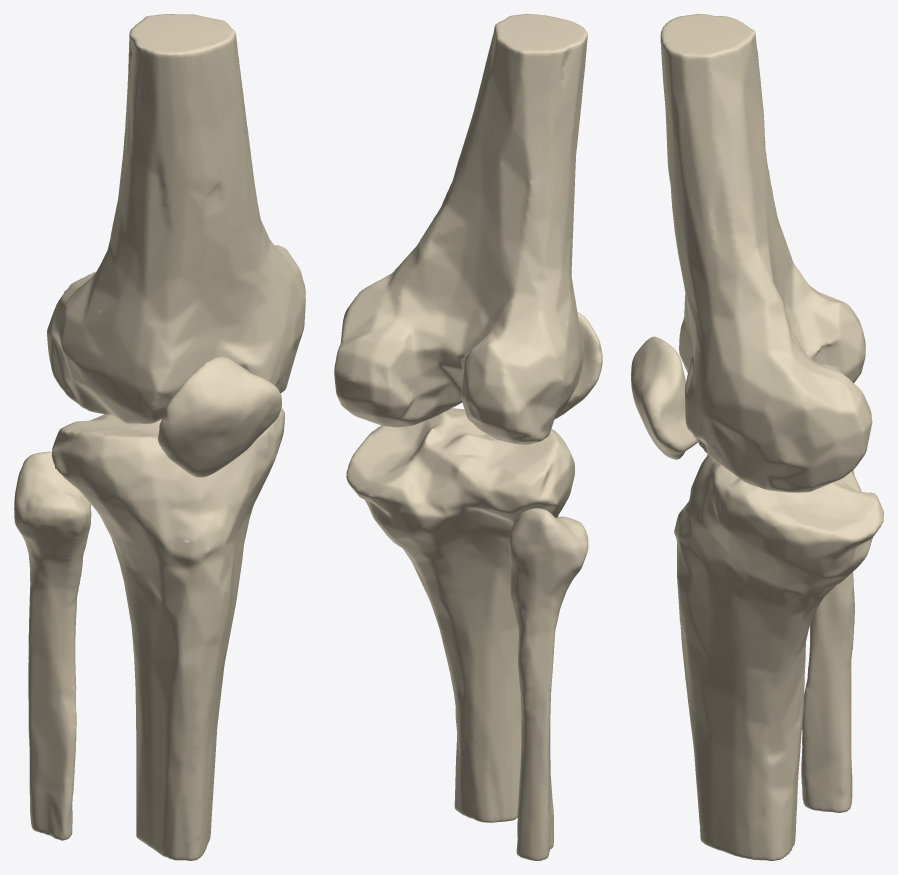
The model's file is knee.7219f0c8.glb.
The picture shows the model from 3 angles, left to right: view 1: azimuth 30°, elevation 25°; view 2: azimuth 150°, elevation 25°; view 3: azimuth 270°, elevation 25°; orthographic projection. The views are drawn at different scales.
Parts seen in each view (by area): view 1: Right femur, Right tibia, Right fibula, Right patella; view 2: Right femur, Right tibia, Right fibula, Right patella; view 3: Right femur, Right tibia, Right fibula, Right patella.
Boxes of the visible parts, x1=… form: Right femur: x1=47, y1=14, x2=305, y2=423; Right tibia: x1=51, y1=408, x2=284, y2=860; Right fibula: x1=14, y1=451, x2=91, y2=840; Right patella: x1=158, y1=356, x2=281, y2=477; Right femur: x1=334, y1=14, x2=587, y2=444; Right tibia: x1=346, y1=408, x2=574, y2=822; Right fibula: x1=508, y1=508, x2=588, y2=860; Right patella: x1=554, y1=312, x2=602, y2=419; Right femur: x1=660, y1=14, x2=872, y2=492; Right tibia: x1=674, y1=454, x2=883, y2=860; Right fibula: x1=801, y1=470, x2=854, y2=812; Right patella: x1=631, y1=336, x2=697, y2=459.
Bounding box in the file's own units: 1.28 × 3.8 × 1.09.
